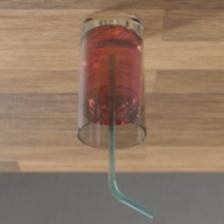drinking_straw: (102, 48, 157, 222)
glass: (71, 3, 150, 154)
